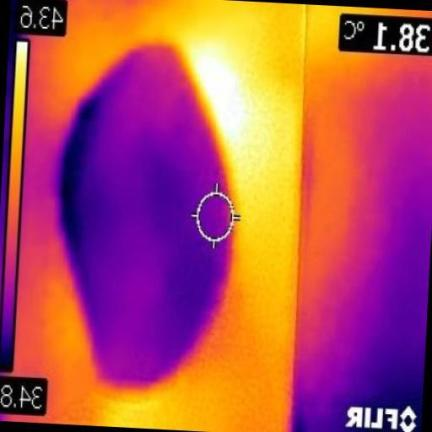mango: (62, 45, 233, 386)
